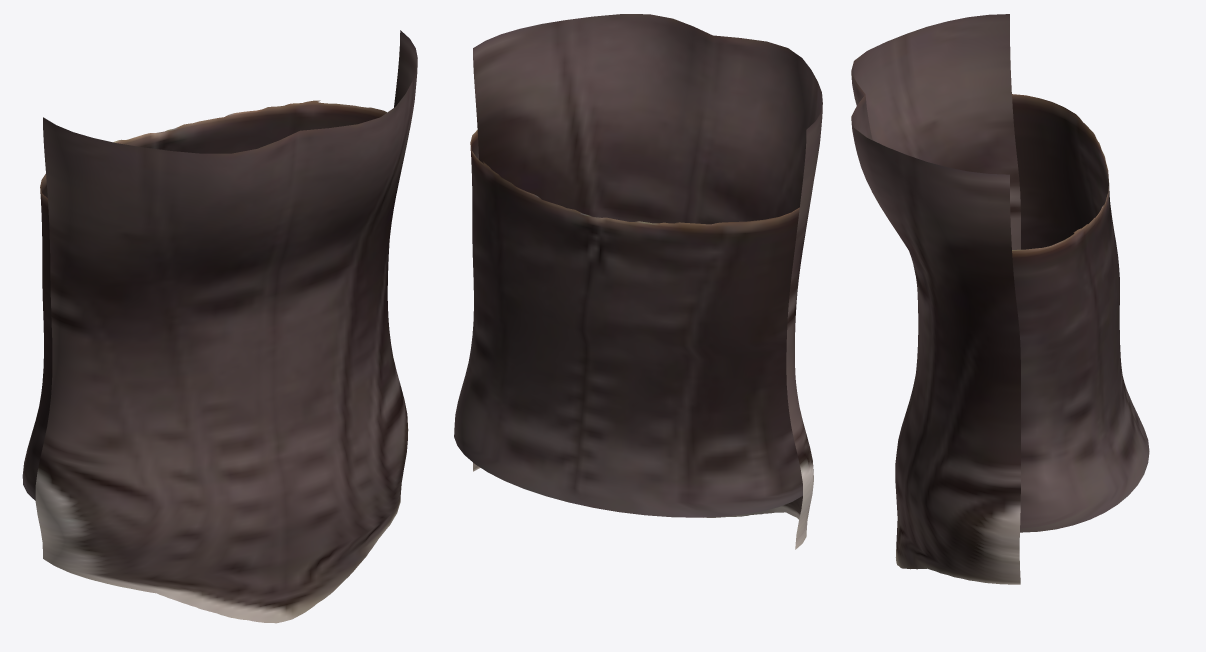
Rendered from prod-ae-espresso-corset.glb.
The picture shows the model from 3 angles, left to right: view 1: azimuth 30°, elevation 25°; view 2: azimuth 150°, elevation 25°; view 3: azimuth 270°, elevation 25°; orthographic projection. The views are drawn at different scales.
Parts seen in each view (by area): view 1: prod-ae-espresso-corset; view 2: prod-ae-espresso-corset; view 3: prod-ae-espresso-corset.
Part boxes in pixels (x1,y1,x2,y2): prod-ae-espresso-corset: [22, 30, 417, 623]; prod-ae-espresso-corset: [454, 14, 822, 549]; prod-ae-espresso-corset: [851, 14, 1149, 584].
Size of the model in its own units: 0.2063 by 0.2746 by 0.1829.
1 material, 1 textured.
